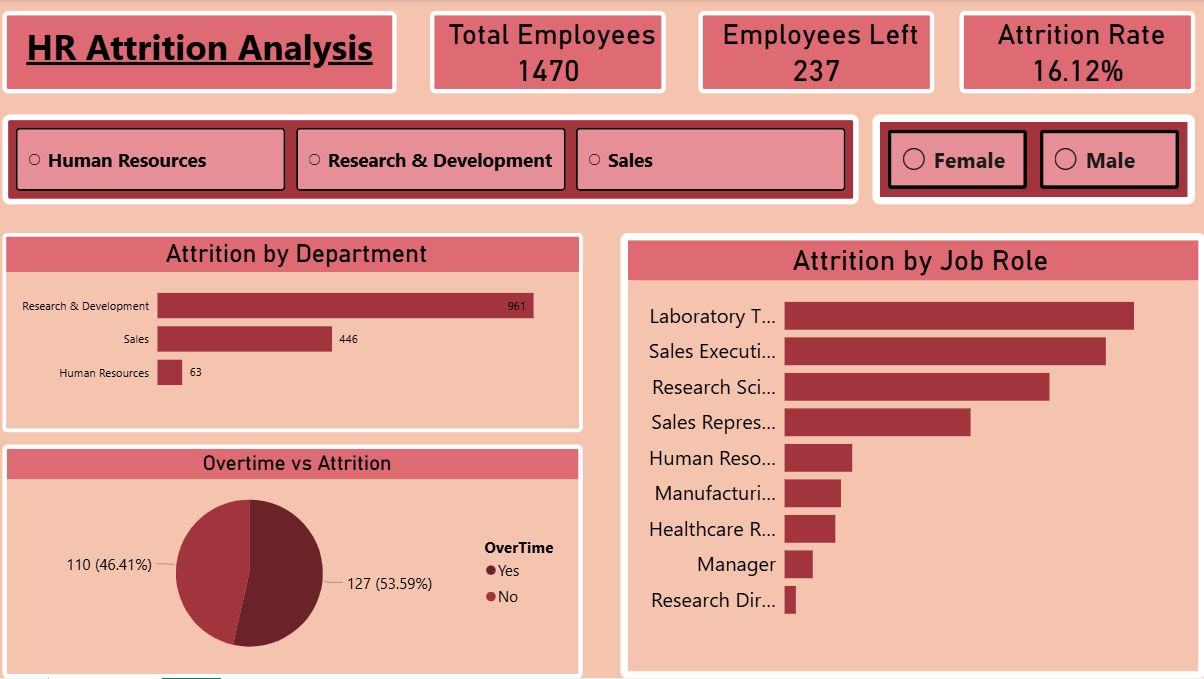

The page's visual inventory and layout, read from the dashboard file:
{"tool":"powerbi","page":{"name":"Page 1","canvas":[1280,720],"ordinal":0},"visuals":[{"type":"card","title":"Total Employees","fields":{"Values":["CountNonNull(HR_analytics.EmployeeNumber)"]},"box":[458.1,12.7,249.7,87.5],"z":0},{"type":"card","title":"Employees Left","fields":{"Values":["CountNonNull(HR_analytics.EmployeeNumber)"]},"box":[742.8,12.7,249.7,87.5],"z":1000},{"type":"card","title":"Attrition Rate","fields":{"Values":["HR_analytics.Attrition Rate"]},"box":[1019.6,12.7,249.7,87.5],"z":2000},{"type":"clusteredBarChart","title":"Attrition by Department","fields":{"Category":["HR_analytics.Department"],"Y":["CountNonNull(HR_analytics.EmployeeNumber)"]},"box":[4.8,248.1,615.6,211.6],"z":3000},{"type":"clusteredBarChart","title":"Attrition by Job Role","fields":{"Category":["HR_analytics.JobRole"],"Y":["CountNonNull(HR_analytics.EmployeeNumber)"]},"box":[660.1,248.1,620.3,472.4],"z":4000},{"type":"advancedSlicerVisual","title":"Department","fields":{"Values":["HR_analytics.Department"]},"box":[4.8,122.5,908.2,95.4],"z":5000},{"type":"advancedSlicerVisual","title":"Gender ","fields":{"Values":["HR_analytics.Gender"]},"box":[927.3,122.5,342,95.4],"z":6000},{"type":"textbox","box":[4.8,12.7,418.3,87.5],"z":7000},{"type":"pieChart","title":"Overtime vs Attrition","fields":{"Category":["HR_analytics.OverTime"],"Y":["Sum(HR_analytics.EmployeeCount)"]},"box":[4.8,472.4,615.6,248.1],"z":9000}]}

Visuals, with their boxes in screenshot pixels (x1, y1, x2, y2), scaled from the page's 1280x720 canvas onto the 1204x679 screenshot:
"Total Employees" card: 431:12:666:94
"Employees Left" card: 699:12:934:94
"Attrition Rate" card: 959:12:1194:94
"Attrition by Department" clusteredBarChart: 5:234:584:434
"Attrition by Job Role" clusteredBarChart: 621:234:1203:678
"Department" advancedSlicerVisual: 5:116:859:205
"Gender " advancedSlicerVisual: 872:116:1194:205
textbox: 5:12:398:94
"Overtime vs Attrition" pieChart: 5:445:584:678
